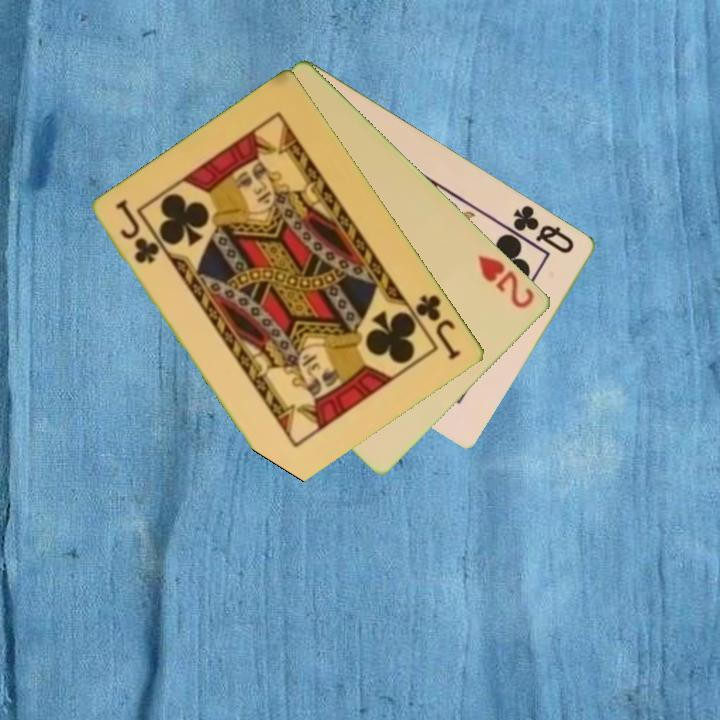2h: (475, 251, 538, 312)
Jc: (412, 291, 465, 363), (112, 197, 163, 267)
Qc: (510, 201, 578, 257)
